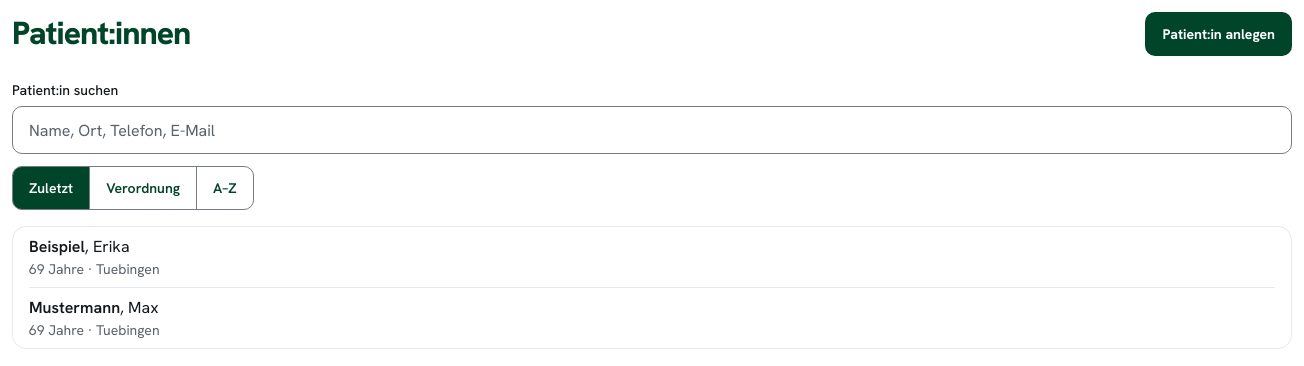
Scenario: PatientsListPage (B1, B10) › filtert die Anzeige ueber die Suche
Expected: the link "Mustermann, Max 69 Jahre · Tuebingen" is shown, [29,297,160,339]
# B10: ab dem ersten Zeichen, keine Mindestlänge - „k“ trifft nur Erika.
Type "k" into the search field labelled "Patient:in suchen".
click(652, 130); type("k")  # box [12,106,1292,154]
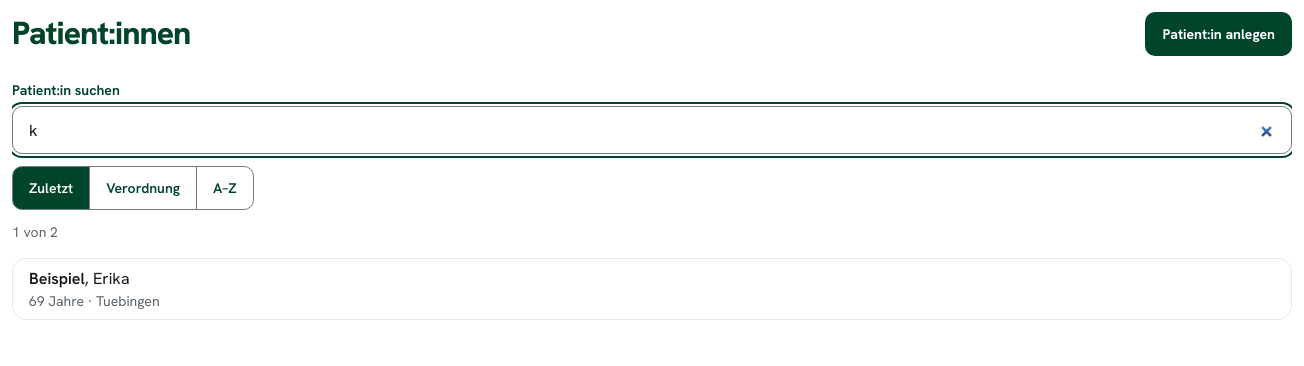
Expected: the link "Beispiel, Erika 69 Jahre · Tuebingen" is shown, [29,268,160,310]
Now the link "Mustermann, Max" is gone
